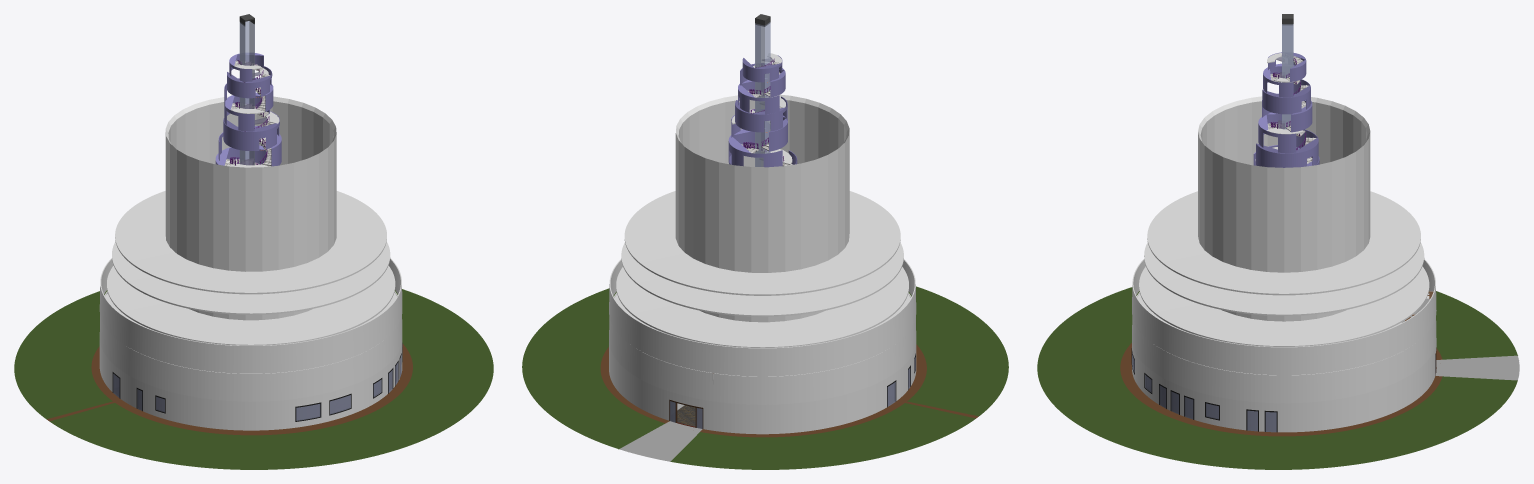
File: inside.fbx
3 renders of one model, left to right at view 1: azimuth 30°, elevation 25°; view 2: azimuth 150°, elevation 25°; view 3: azimuth 270°, elevation 25°, orthographic.
Visible parts, largest first — view 1: outside wall, iside wall higher levels, third cieling.002, outside wall.third floor, third cieling, outside wall.second floor, third cieling.001, staircase.013, Cube.021, staircase.016, staircase.014, staircase.011 (+2 smaller); view 2: outside wall, iside wall higher levels, third cieling.002, outside wall.third floor, third cieling, outside wall.second floor, third cieling.001, Cube.021, staircase.012, staircase.014, staircase.015, staircase.013 (+1 smaller); view 3: outside wall, iside wall higher levels, third cieling.002, outside wall.third floor, third cieling, outside wall.second floor, third cieling.001, staircase.012, staircase.015, staircase.013, Cube.021, staircase.016 (+1 smaller).
Part boxes in pixels (left/top/right/bottom): outside wall: left=14, top=289, right=493, bottom=469; iside wall higher levels: left=165, top=96, right=336, bottom=320; third cieling.002: left=115, top=191, right=386, bottom=294; outside wall.third floor: left=99, top=258, right=402, bottom=373; third cieling: left=107, top=265, right=395, bottom=345; outside wall.second floor: left=99, top=291, right=402, bottom=401; third cieling.001: left=112, top=241, right=390, bottom=314; staircase.013: left=223, top=111, right=279, bottom=150; Cube.021: left=239, top=14, right=254, bottom=165; staircase.016: left=227, top=66, right=272, bottom=98; staircase.014: left=224, top=92, right=269, bottom=131; staircase.011: left=215, top=145, right=266, bottom=165; outside wall: left=522, top=286, right=1008, bottom=469; iside wall higher levels: left=675, top=94, right=849, bottom=322; third cieling.002: left=624, top=191, right=900, bottom=295; outside wall.third floor: left=609, top=259, right=916, bottom=376; third cieling: left=616, top=267, right=908, bottom=347; outside wall.second floor: left=609, top=292, right=916, bottom=404; third cieling.001: left=621, top=242, right=903, bottom=316; Cube.021: left=755, top=14, right=770, bottom=166; staircase.012: left=728, top=128, right=782, bottom=167; staircase.014: left=735, top=96, right=787, bottom=132; staircase.015: left=738, top=78, right=779, bottom=114; staircase.013: left=731, top=109, right=787, bottom=151; outside wall: left=1037, top=287, right=1519, bottom=469; iside wall higher levels: left=1198, top=96, right=1370, bottom=321; third cieling.002: left=1147, top=191, right=1420, bottom=295; outside wall.third floor: left=1132, top=259, right=1436, bottom=375; third cieling: left=1139, top=266, right=1429, bottom=346; outside wall.second floor: left=1132, top=292, right=1436, bottom=403; third cieling.001: left=1144, top=242, right=1424, bottom=315; staircase.012: left=1256, top=129, right=1318, bottom=167; staircase.015: left=1262, top=79, right=1310, bottom=114; staircase.013: left=1258, top=112, right=1305, bottom=153; Cube.021: left=1282, top=14, right=1293, bottom=153; staircase.016: left=1263, top=63, right=1300, bottom=97.
Bounding box in the file's own units: 16509 × 13464 × 16509.
